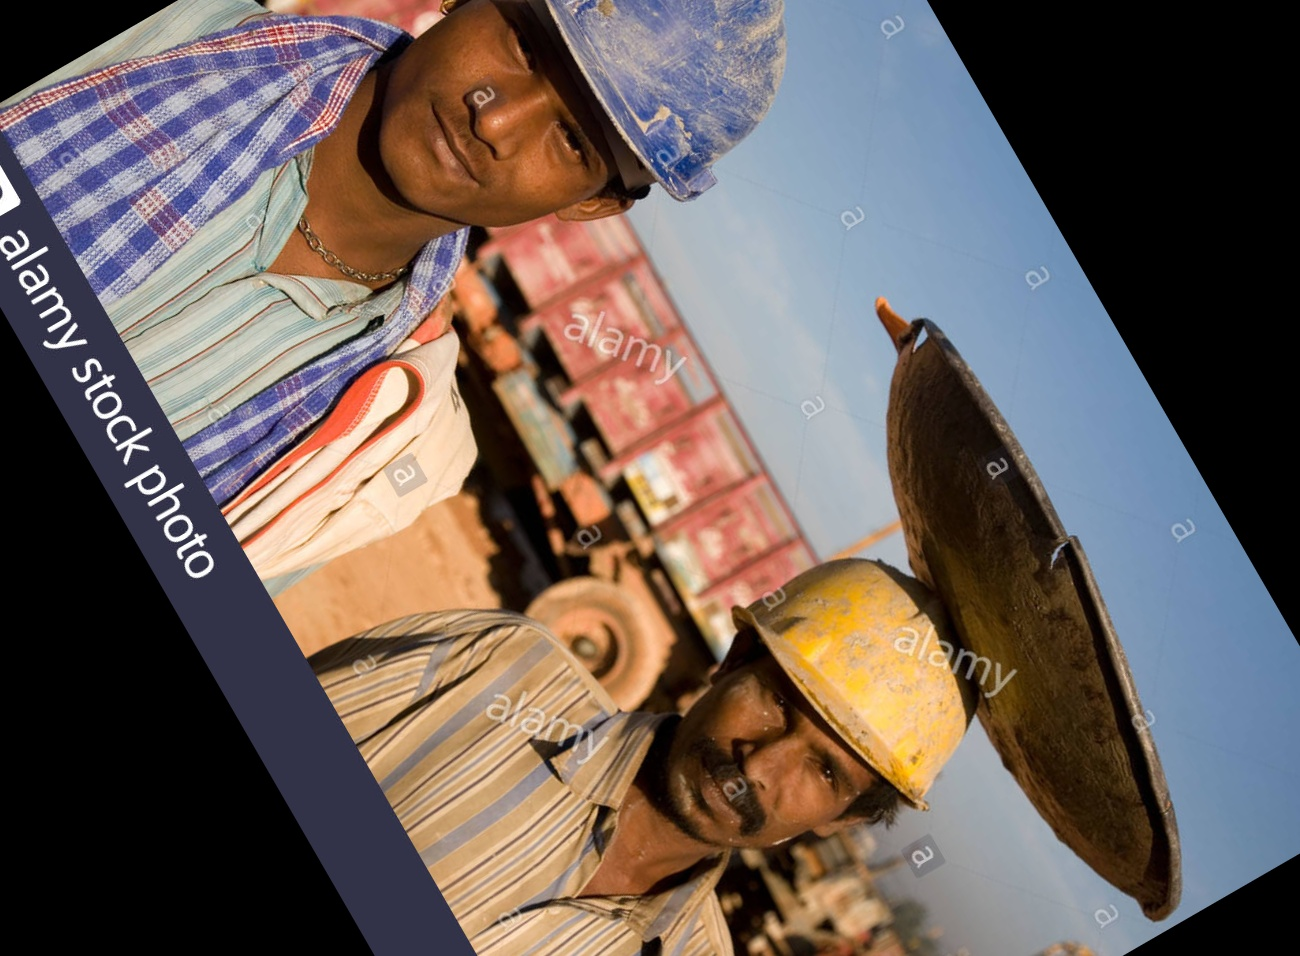NoJacket: (111, 3, 791, 425), (374, 565, 943, 951)
